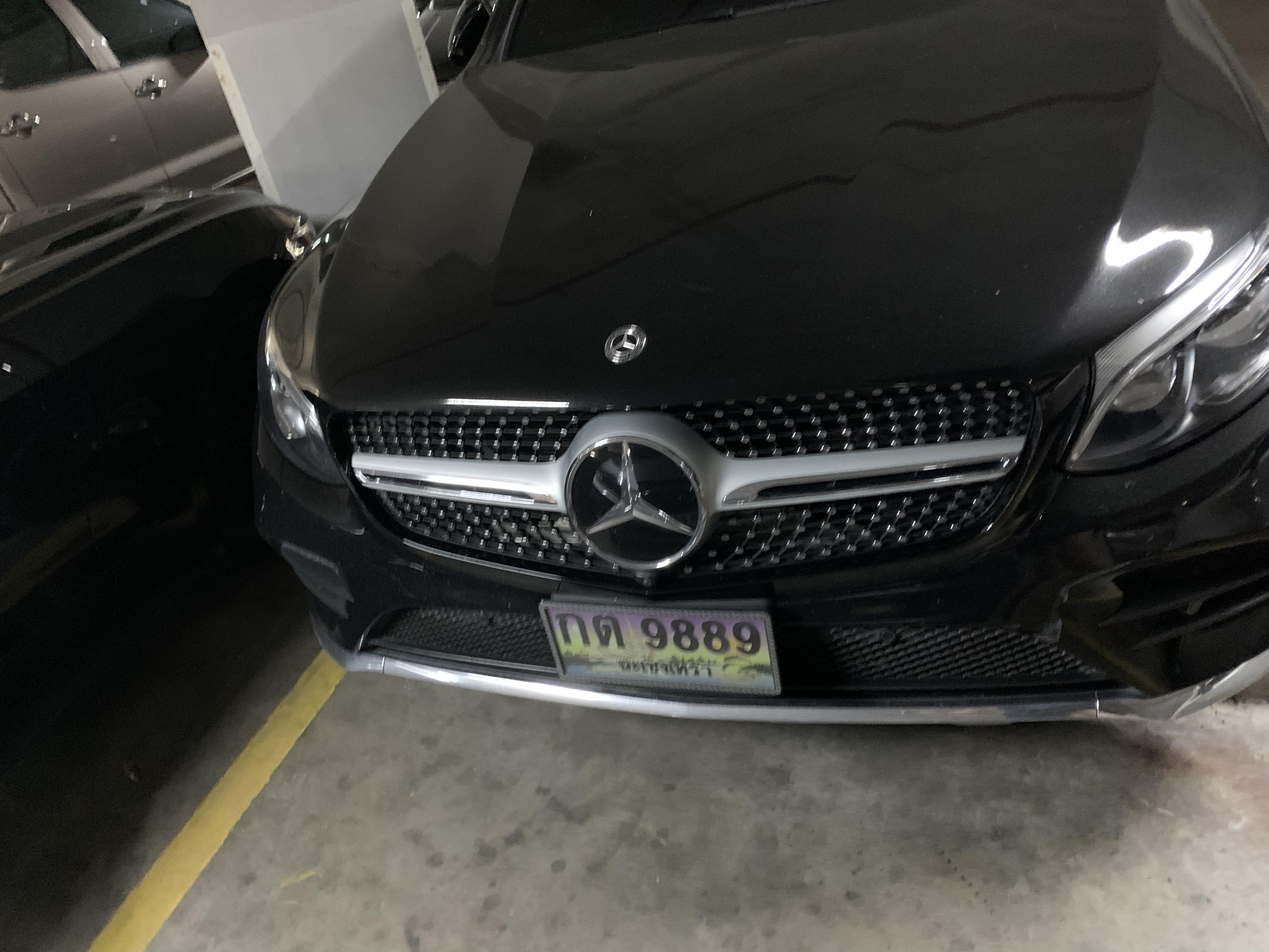license-plate: (531, 593, 787, 705)
